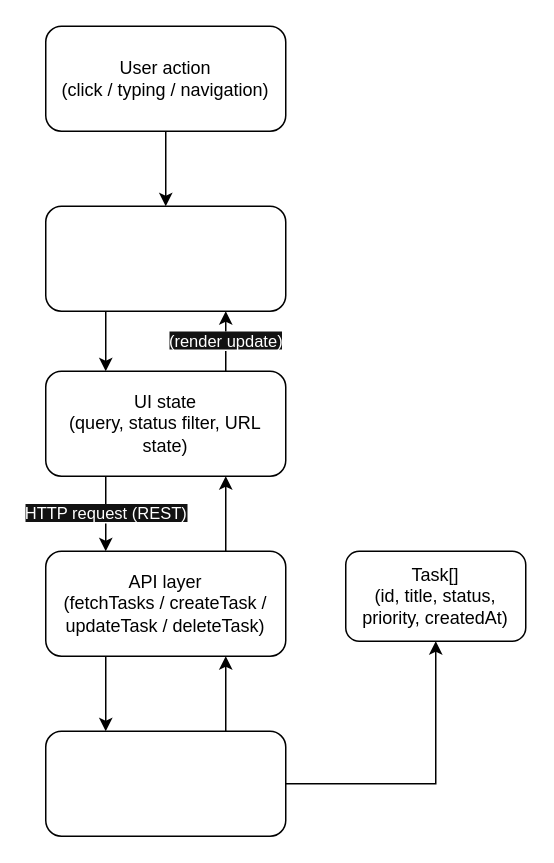
Some shapes in this 554 by 863 pixel diagram are drawn without their labels. The centre of each missing label's shape, as x and y in pixels:
"json-server REST API (/tasks)" belongs at (x=165, y=783).
"View layer (React / Vue component)" belongs at (x=165, y=258).
